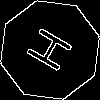H: (25, 25, 82, 79)
